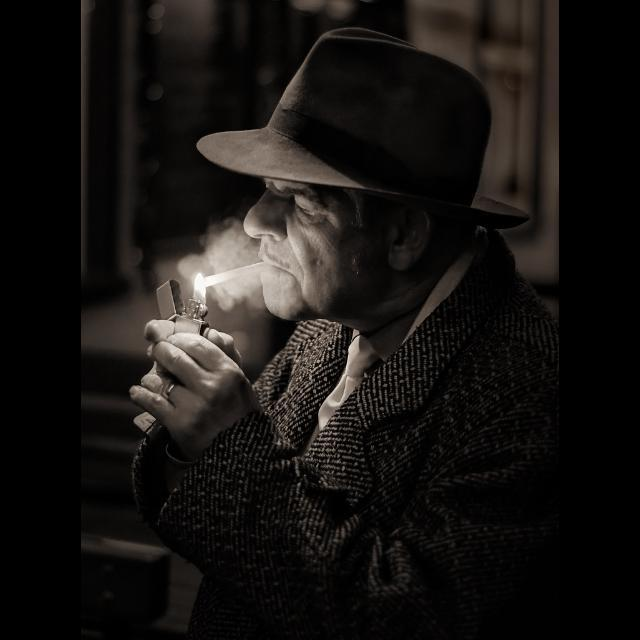rokok: (202, 262, 272, 288)
